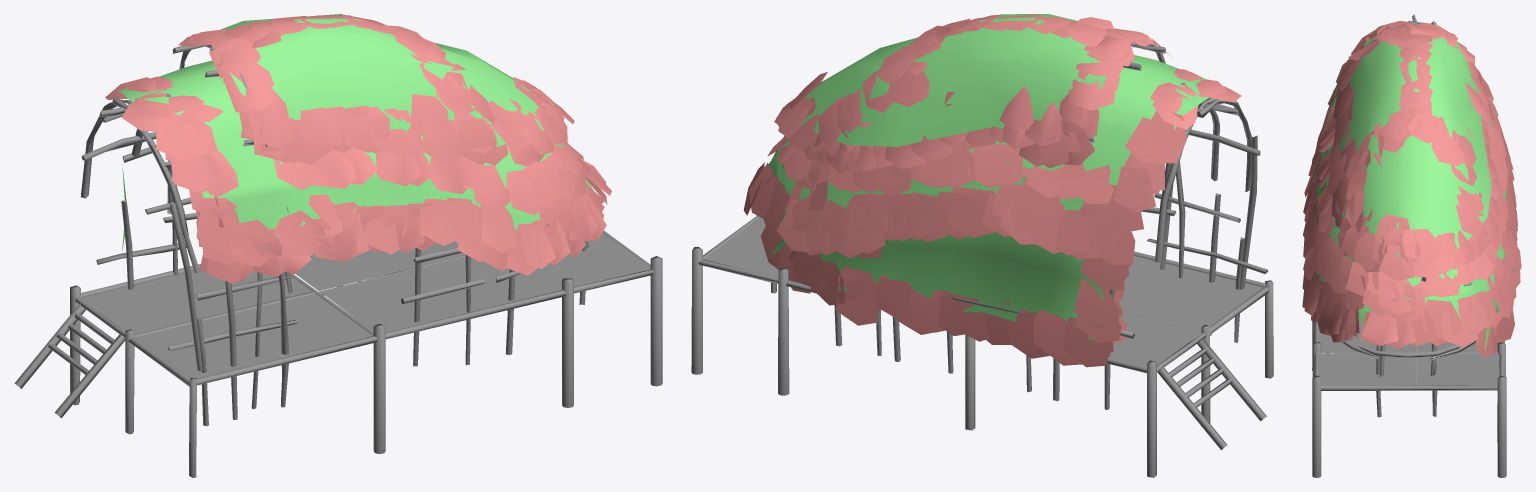
Rendered from SM_village_tent_small_A.gltf.
3 views of the same model, side by side, from view 1: azimuth 30°, elevation 25°; view 2: azimuth 150°, elevation 25°; view 3: azimuth 270°, elevation 25° (orthographic). The views are drawn at different scales.
Visible parts, largest first — view 1: SM_village_tent_small_A; view 2: SM_village_tent_small_A; view 3: SM_village_tent_small_A.
Part boxes in pixels (box(x1,y1,x2,y2)): SM_village_tent_small_A: box(14, 14, 662, 477); SM_village_tent_small_A: box(691, 14, 1273, 477); SM_village_tent_small_A: box(1302, 14, 1521, 477).
Size of the model in its own units: 13.98 by 9.77 by 6.31.
